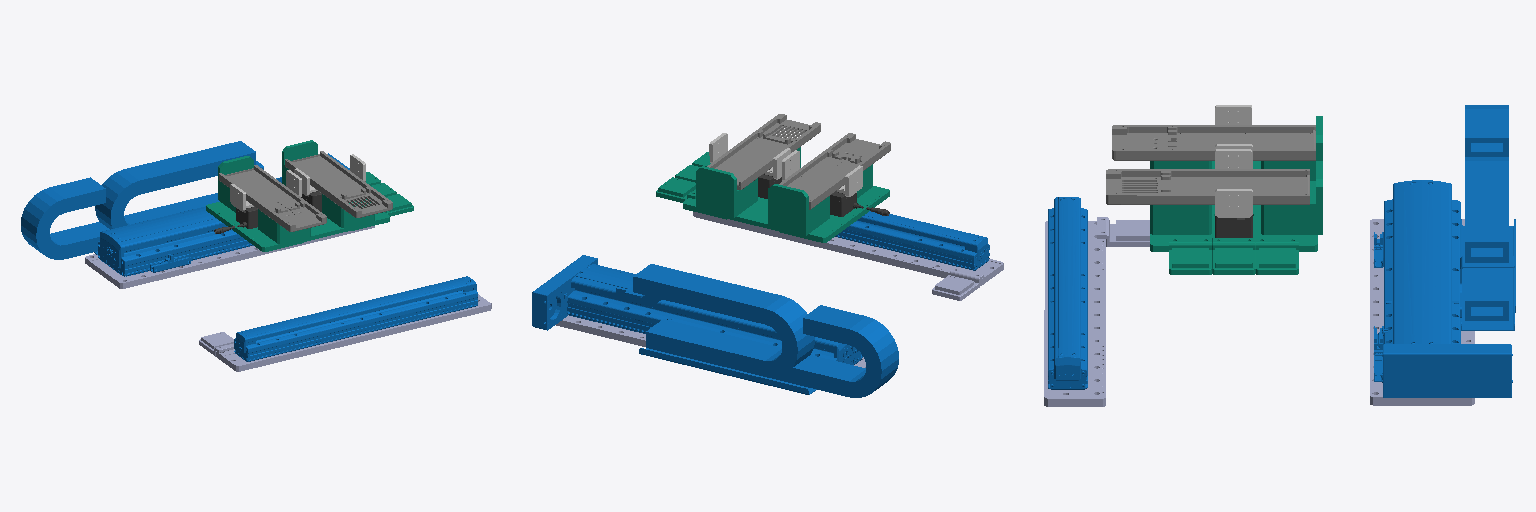
The robot description file, URDF, robot "base_ARF":
<?xml version="1.0" encoding="UTF-8"?>
<robot name="base_ARF">
	<link name="world" />
	<link name="base_ARF">
		<visual>
			<geometry>
				<mesh filename="package://keti_workcell_description/meshes/base2.STL" />
			</geometry>
			<material name="">
				<color rgba="0.89 0.91 0.93 1" />
			</material>
		</visual>
	</link>
	<link name="ARF_jig">
		<visual>
			<geometry>
				<mesh filename="package://keti_workcell_description/meshes/ARF_jig.STL" />
			</geometry>
			<material name="">
				<color rgba="0.69 0.71 0.83 1" />
			</material>
		</visual>
	</link>
	<link name="ARF_slider_base1">
		<visual>
			<geometry>
				<mesh filename="package://keti_workcell_description/meshes/ARF_slider_base1.STL" />
			</geometry>
			<material name="">
				<color rgba="0.1 0.5 0.8 1" />
			</material>
		</visual>
	</link>
	<link name="ARF_slider1">
		<visual>
			<geometry>
				<mesh filename="package://keti_workcell_description/meshes/ARF_slider1.STL" />
			</geometry>
			<material name="">
				<color rgba="0.7 0.5 0.3 1" />
			</material>
		</visual>
	</link>
	<link name="s4_dummy" />
	<link name="ARF_slider2">
		<visual>
			<geometry>
				<mesh filename="package://keti_workcell_description/meshes/ARF_slider2.STL" />
			</geometry>
			<material name="">
				<color rgba="0.5 0.4 0.6 1" />
			</material>
		</visual>
	</link>
	<link name="ARF_jig2">
		<visual>
			<geometry>
				<mesh filename="package://keti_workcell_description/meshes/ARF_jig2.STL" />
			</geometry>
			<material name="">
				<color rgba="0.1 0.6 0.5 1" />
			</material>
		</visual>
	</link>
	<link name="obj1">
		<visual>
			<geometry>
				<mesh filename="package://keti_workcell_description/meshes/obj1.STL" />
			</geometry>
			<material name="">
				<color rgba="0.57 0.57 0.57 1" />
			</material>
		</visual>
	</link>
	<link name="obj2">
		<visual>
			<geometry>
				<mesh filename="package://keti_workcell_description/meshes/obj2.STL" />
			</geometry>
			<material name="">
				<color rgba="0.57 0.57 0.57 1" />
			</material>
		</visual>
	</link>
	<link name="zimmer1">
		<visual>
			<geometry>
				<mesh filename="package://keti_workcell_description/meshes/zimmer.STL" />
			</geometry>
			<material name="">
				<color rgba="0.3 0.3 0.3 1" />
			</material>
		</visual>
	</link>
	<link name="zimmer2">
		<visual>
			<geometry>
				<mesh filename="package://keti_workcell_description/meshes/zimmer.STL" />
			</geometry>
			<material name="">
				<color rgba="0.3 0.3 0.3 1" />
			</material>
		</visual>
	</link>
	<link name="tooltip11">
		<visual>
			<geometry>
				<mesh filename="package://keti_workcell_description/meshes/tooltip.STL" />
			</geometry>
			<material name="">
				<color rgba="0.8 0.8 0.8 1" />
			</material>
		</visual>
	</link>
	<link name="tooltip12">
		<visual>
			<geometry>
				<mesh filename="package://keti_workcell_description/meshes/tooltip.STL" />
			</geometry>
			<material name="">
				<color rgba="0.8 0.8 0.8 1" />
			</material>
		</visual>
	</link>
	<link name="tooltip21">
		<visual>
			<geometry>
				<mesh filename="package://keti_workcell_description/meshes/tooltip.STL" />
			</geometry>
			<material name="">
				<color rgba="0.8 0.8 0.8 1" />
			</material>
		</visual>
	</link>
	<link name="tooltip22">
		<visual>
			<geometry>
				<mesh filename="package://keti_workcell_description/meshes/tooltip.STL" />
			</geometry>
			<material name="">
				<color rgba="0.8 0.8 0.8 1" />
			</material>
		</visual>
	</link>
	<joint name="base_ARF_fixed" type="fixed">
		<origin xyz="-0.00026 0.80842 -0.0135" rpy="0 0 3.1416" />
		<parent link="world" />
		<child link="base_ARF" />
	</joint>
	<joint name="ARF_jig_fixed" type="fixed">
		<origin xyz="-0.02392 0.03311 0.8335" rpy="0 0 -1.5709" />
		<parent link="base_ARF" />
		<child link="ARF_jig" />
	</joint>
	<joint name="slider_base1_fixed" type="fixed">
		<origin xyz="0.29294 -0.31 0.05514" rpy="-1.5709 0 0" />
		<parent link="ARF_jig" />
		<child link="ARF_slider_base1" />
	</joint>
	<joint name="s3" type="prismatic">
		<origin xyz="-0.03044 -0.02835 0.0" rpy="0 0 0" />
		<parent link="ARF_slider_base1" />
		<child link="ARF_slider1" />
		<axis xyz="0 0 1" />
		<limit lower="0.045" upper="0.445" effort="100" velocity="10" />
	</joint>
	<joint name="s4_dummy_fixed" type="fixed">
		<origin xyz="-0.569 -0.06672 0.06" rpy="0 1.5709 0" />
		<parent link="ARF_slider1" />
		<child link="s4_dummy" />
	</joint>
	<joint name="s4" type="prismatic">
		<origin xyz="0 -0.03128 0" rpy="0 0 0" />
		<parent link="s4_dummy" />
		<child link="ARF_slider2" />
		<axis xyz="0 0 1" />
		<limit lower="0.055" upper="0.355" effort="100" velocity="10" />
	</joint>
	<joint name="ARF_slider2_jig2" type="fixed">
		<origin xyz="0 -0.01652 0.06" rpy="1.5709 -1.5709 0" />
		<parent link="ARF_slider2" />
		<child link="ARF_jig2" />
	</joint>
	<joint name="ARF_jig2_to_obj1" type="fixed">
		<origin xyz="-0.02828 0.085 0.073" rpy="0 0 -1.5709" />
		<parent link="ARF_jig2" />
		<child link="obj1" />
	</joint>
	<joint name="ARF_jig2_to_obj2" type="fixed">
		<origin xyz="-0.02828 -0.085 0.073" rpy="0 0 -1.5709" />
		<parent link="ARF_jig2" />
		<child link="obj2" />
	</joint>
	<joint name="ARF_jig2_to_zimmer1" type="fixed">
		<origin xyz="0 0.085 0.0552" rpy="1.5709 0 0" />
		<parent link="ARF_jig2" />
		<child link="zimmer1" />
	</joint>
	<joint name="ARF_jig2_to_zimmer2" type="fixed">
		<origin xyz="0 -0.085 0.0552" rpy="1.5709 0 0" />
		<parent link="ARF_jig2" />
		<child link="zimmer2" />
	</joint>
	<joint name="s5" type="prismatic">
		<origin xyz="-0.00037 0.00443 -0.041" rpy="0 0 0" />
		<parent link="zimmer1" />
		<child link="tooltip11" />
		<axis xyz="0 0 1" />
		<limit lower="0.0" upper="0.04" effort="100" velocity="10" />
	</joint>
	<joint name="s6" type="prismatic">
		<origin xyz="-0.00037 0.00443 0.041" rpy="0 3.1416 0" />
		<parent link="zimmer1" />
		<child link="tooltip12" />
		<axis xyz="0 0 1" />
		<limit lower="0.0" upper="0.04" effort="100" velocity="10" />
	</joint>
	<joint name="s7" type="prismatic">
		<origin xyz="-0.00037 0.00443 -0.041" rpy="0 0 0" />
		<parent link="zimmer2" />
		<child link="tooltip21" />
		<axis xyz="0 0 1" />
		<limit lower="0.0" upper="0.04" effort="100" velocity="10" />
	</joint>
	<joint name="s8" type="prismatic">
		<origin xyz="-0.00037 0.00443 0.041" rpy="0 3.1416 0" />
		<parent link="zimmer2" />
		<child link="tooltip22" />
		<axis xyz="0 0 1" />
		<limit lower="0.0" upper="0.04" effort="100" velocity="10" />
	</joint>
</robot>

--- Render facts (derived) ---
The picture shows the robot from 3 angles, left to right: view 1: azimuth 30°, elevation 25°; view 2: azimuth 150°, elevation 25°; view 3: azimuth 270°, elevation 25°; orthographic projection.
Model base_ARF with 16 links and 15 joints (6 prismatic, 9 fixed), rooted at world, posed joints at zero except 2 at the middle of their limits (s3 = 0.245, s4 = 0.205).
Visible links, largest first — view 1: ARF_slider_base1, ARF_jig2, ARF_jig, obj1, obj2; view 2: ARF_slider_base1, ARF_jig2, ARF_jig, obj2, obj1, zimmer1; view 3: ARF_slider_base1, ARF_jig2, ARF_jig, obj2, obj1, tooltip22, zimmer2, tooltip11, tooltip21.
Link boxes in pixels (x1,y1,x2,y2): ARF_slider_base1: (21,141,477,361); ARF_jig2: (206,140,413,251); ARF_jig: (85,226,491,371); obj1: (219,165,326,231); obj2: (285,151,392,217); ARF_slider_base1: (532,211,989,397); ARF_jig2: (656,147,889,242); ARF_jig: (556,212,1003,367); obj2: (707,114,820,189); obj1: (779,133,890,209); zimmer1: (830,191,889,216); ARF_slider_base1: (1048,105,1515,397); ARF_jig2: (1150,116,1322,274); ARF_jig: (1044,217,1474,406); obj2: (1106,169,1309,204); obj1: (1112,125,1315,160); tooltip22: (1215,189,1252,217); zimmer2: (1215,215,1252,237); tooltip11: (1215,105,1251,124); tooltip21: (1215,149,1251,168).
Size in the robot's own frame: 0.8232 by 0.7606 by 0.303 metres.
Meshes: 10 distinct files referenced, 12 mesh visuals loaded (8 binary STL); not drawn: 2 (reference not matched to a file when rendering).
